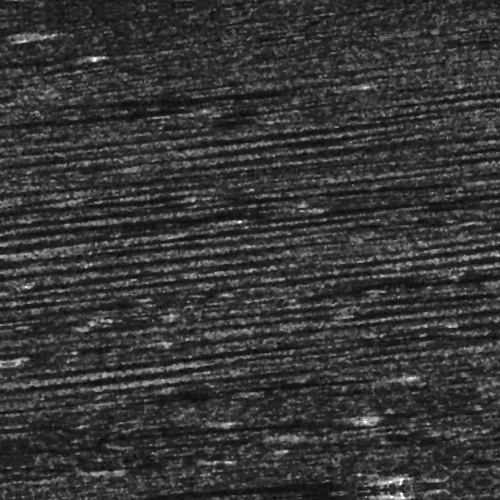object: (65, 37, 170, 50), (309, 481, 414, 492), (282, 381, 397, 390), (217, 432, 322, 441), (152, 100, 245, 109), (5, 12, 78, 23), (292, 90, 397, 97), (265, 209, 328, 216), (0, 73, 78, 78), (335, 422, 398, 427)
shadow: (102, 481, 361, 492), (80, 381, 339, 390), (29, 209, 296, 216), (0, 100, 198, 109), (0, 37, 117, 50), (142, 90, 344, 97), (109, 422, 366, 427), (138, 432, 270, 441), (439, 51, 500, 60), (0, 12, 42, 23), (0, 73, 37, 78)
